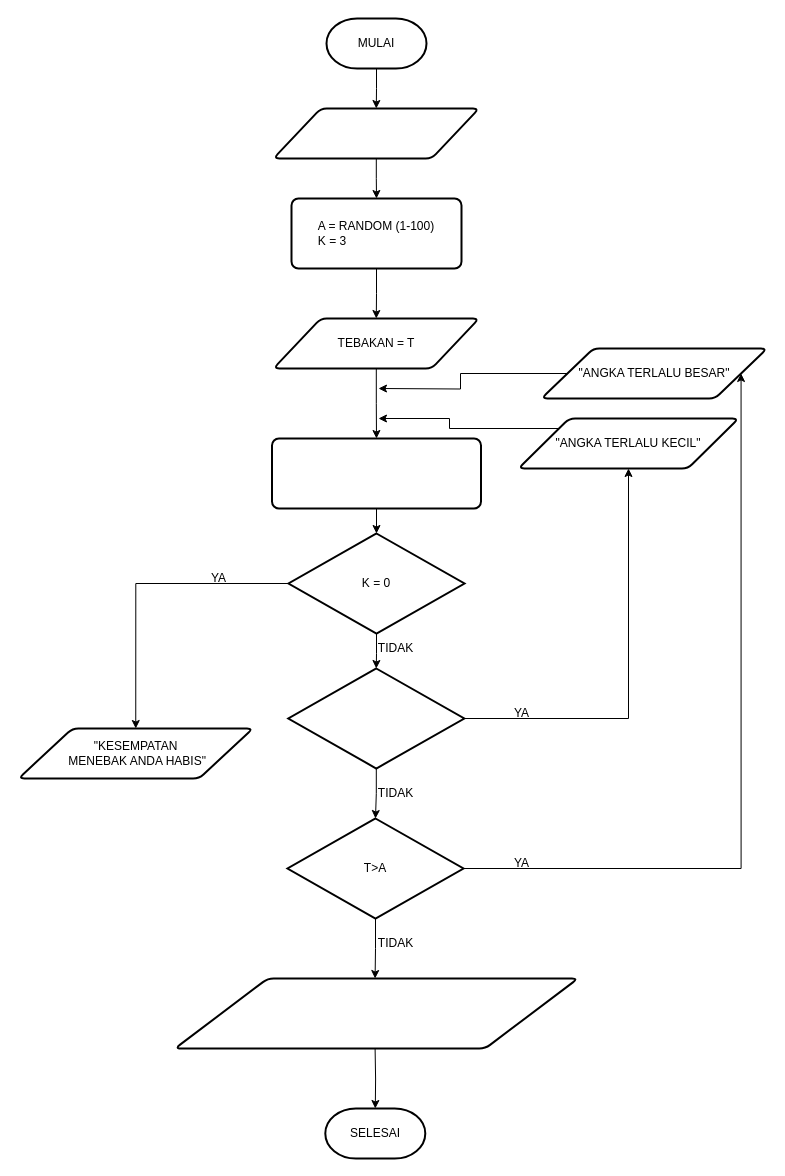
The diagram is 785 pixels wide and 1176 high, and some of its shapes have lost their labels. Each missing label, with the centre of its shape:
"GAME TEBAK ANGKA": [376,133]
"SELAMAT ANGKA YANG ANDA TEBAK BENAR": [376,1013]
K = K - 1: [376,473]
T<A: [376,718]
